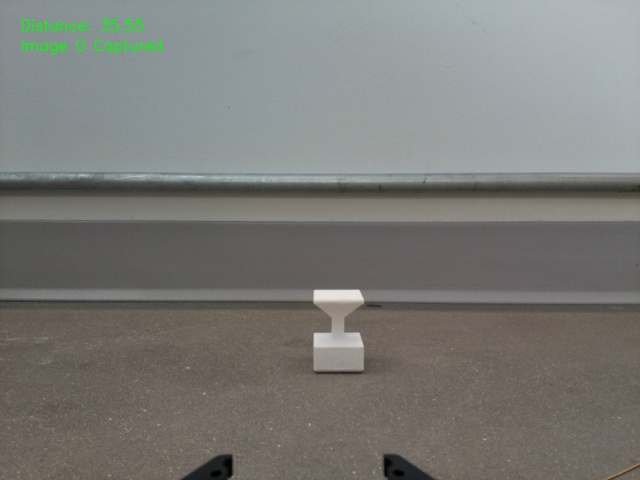block: (312, 289, 368, 372)
